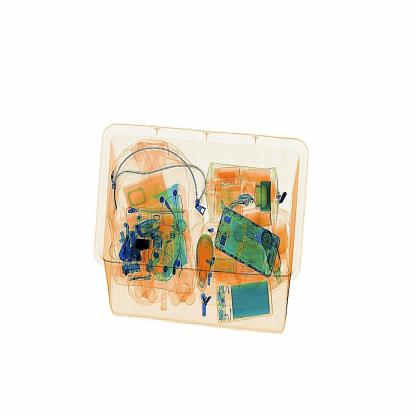scissors: (134, 231, 157, 262)
